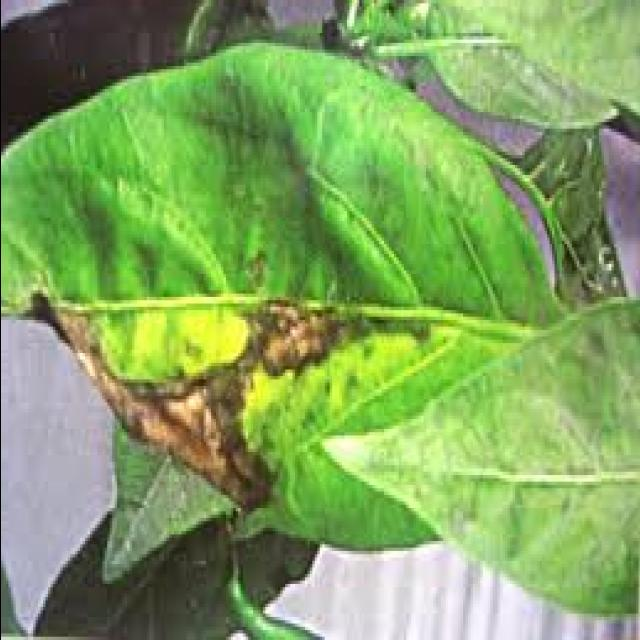bercak_daun: (21, 63, 550, 546)
